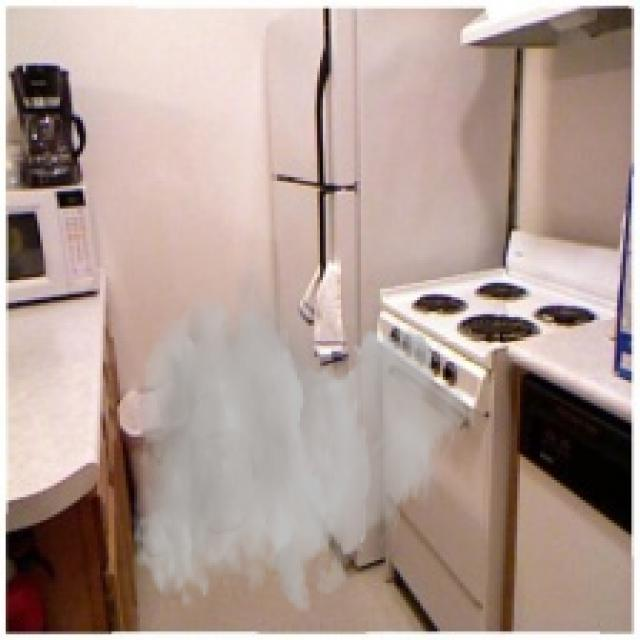smoke: (132, 252, 477, 614)
